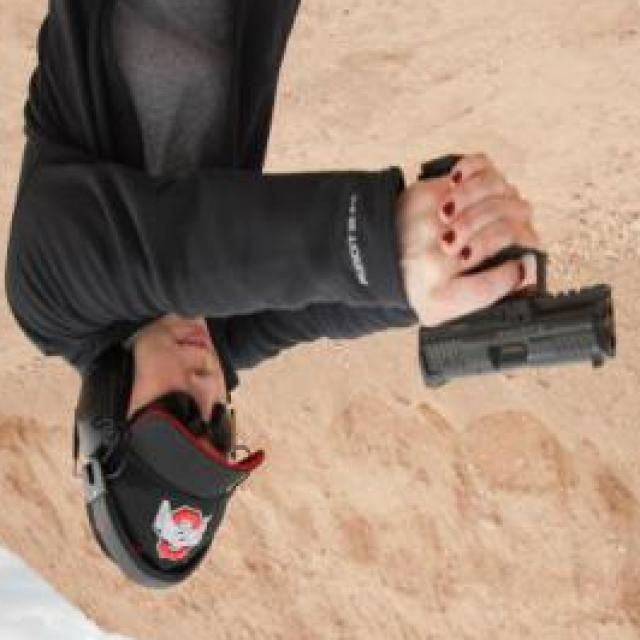pistol: (409, 110, 616, 402)
